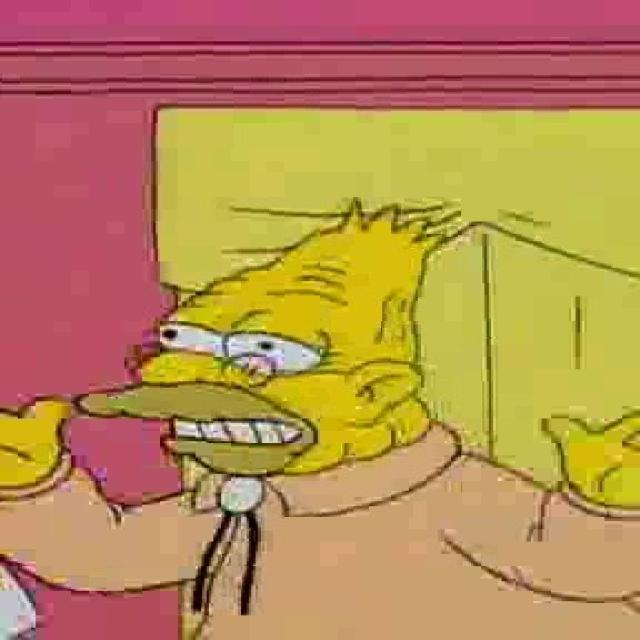Abraham Grampa Simpson: (71, 196, 453, 482)
